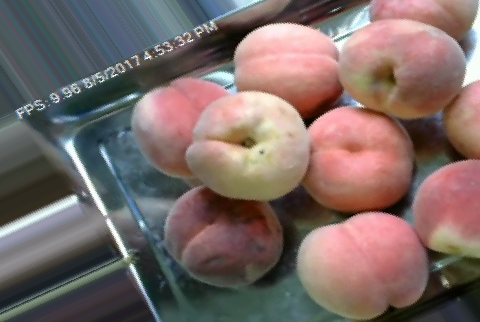Peach: (185, 87, 309, 201), (298, 210, 426, 319), (340, 15, 466, 118), (165, 186, 284, 285), (304, 108, 414, 214), (234, 21, 344, 118), (132, 75, 223, 175), (413, 155, 478, 261)
